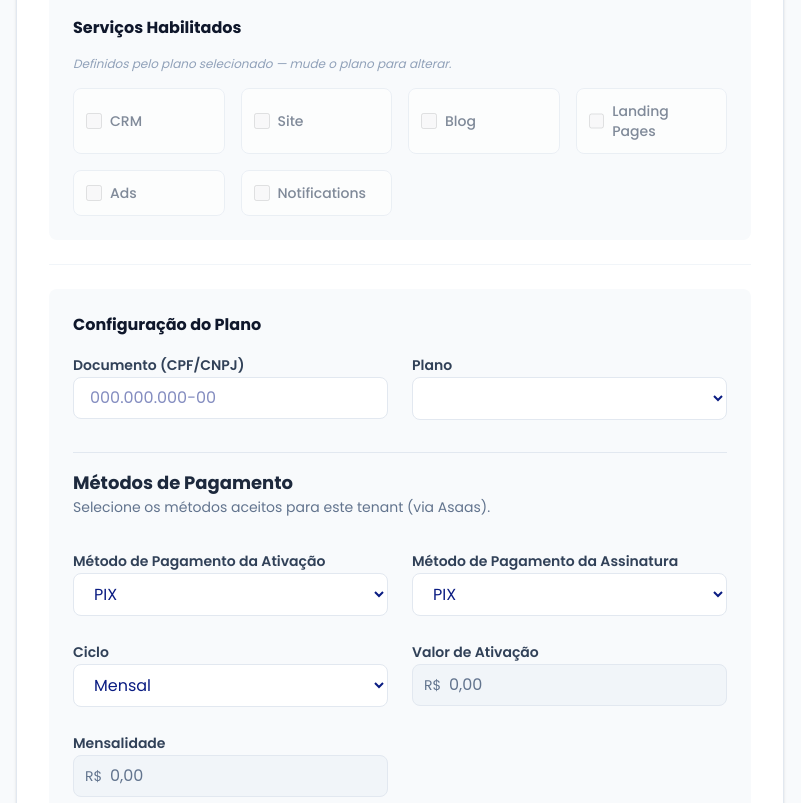
NewTenantPage - T20: CPF obrigatório p/ pago + seletores de método (UI-07) › Deve exigir CPF/CNPJ quando plano é pago e exibir seletores de método de pagamento
This screenshot has width=801, height=803.
(page scrolled)
# Seleciona plano pago
Select "Mock Plan" in the dropdown labelled "Plano" at (570, 398), box [412, 377, 727, 420]
(page scrolled)
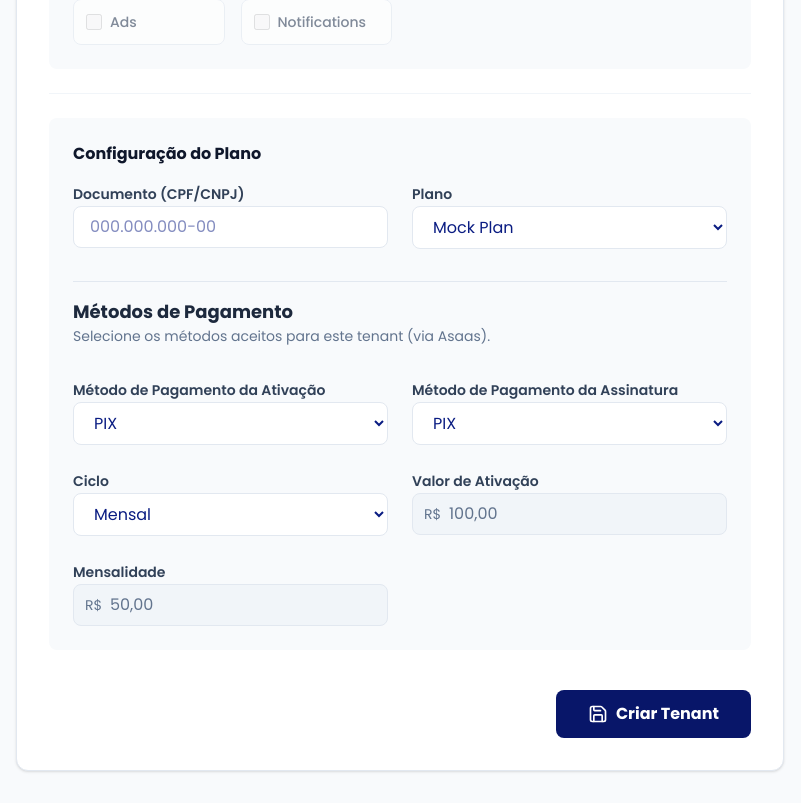
# Tenta submeter sem preencher nada
Click the button "Criar Tenant" at (653, 714), box [556, 690, 751, 738]
(page scrolled)
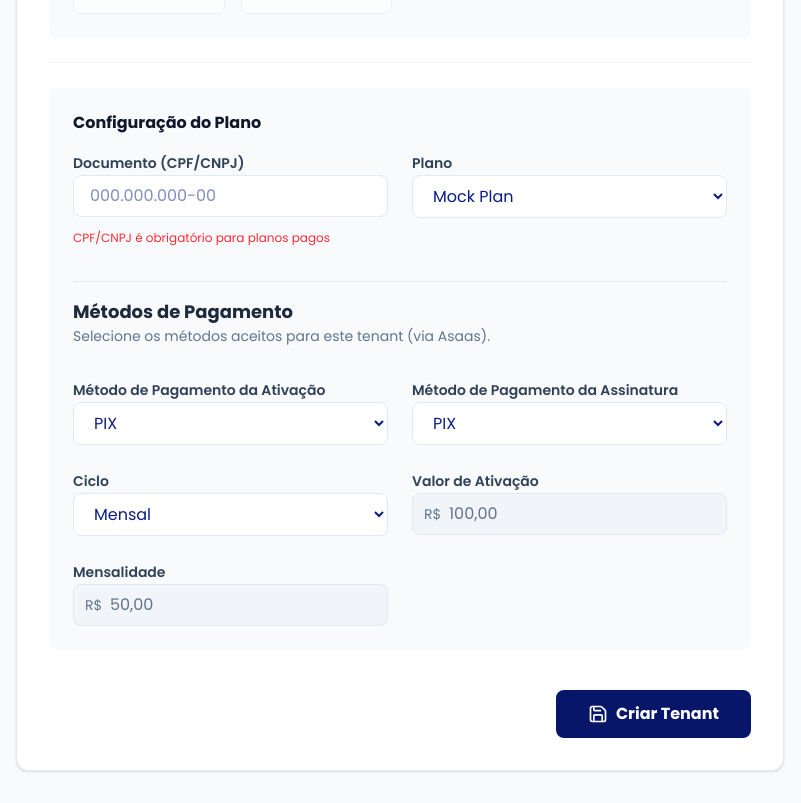
Expected: the heading "Métodos de Pagamento" is shown, [73, 299, 293, 324]
Expected: the text "CPF/CNPJ é obrigatório para planos pagos" is shown, [73, 229, 330, 246]
